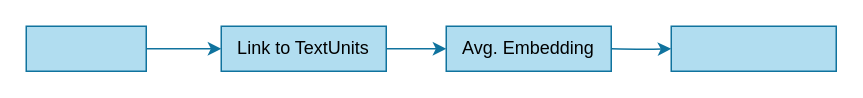
Some shapes in this 863 by 98 pixel diagram are drawn without their labels. The centre of each missing label's shape, as x and y in pixels:
"Augment" belongs at point 85,48.
"Document Table Emission" belongs at point 753,48.
